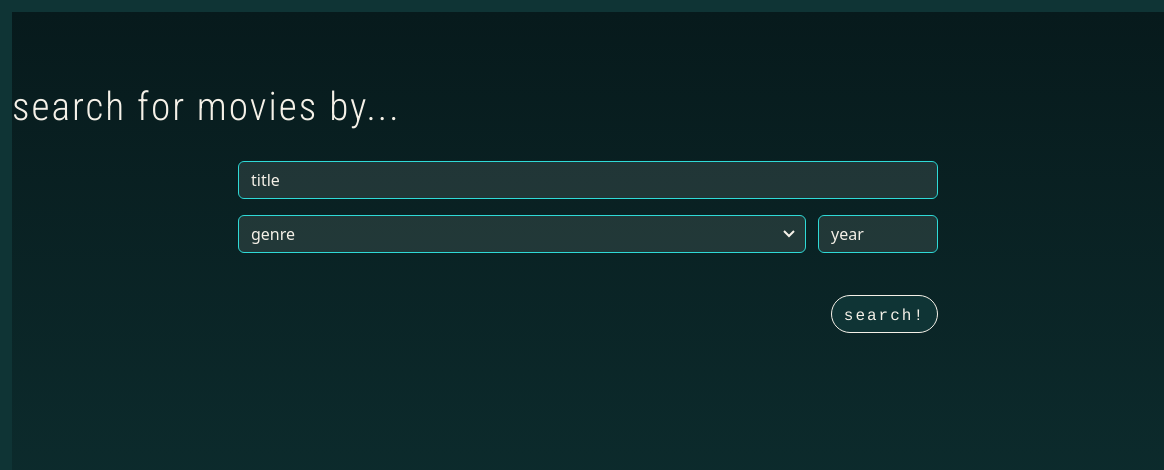
MovieSearchPage › puts submitted filters in the URL
Type "Arrival" into the field with placeholder "title" at (588, 180), box [238, 161, 938, 199]
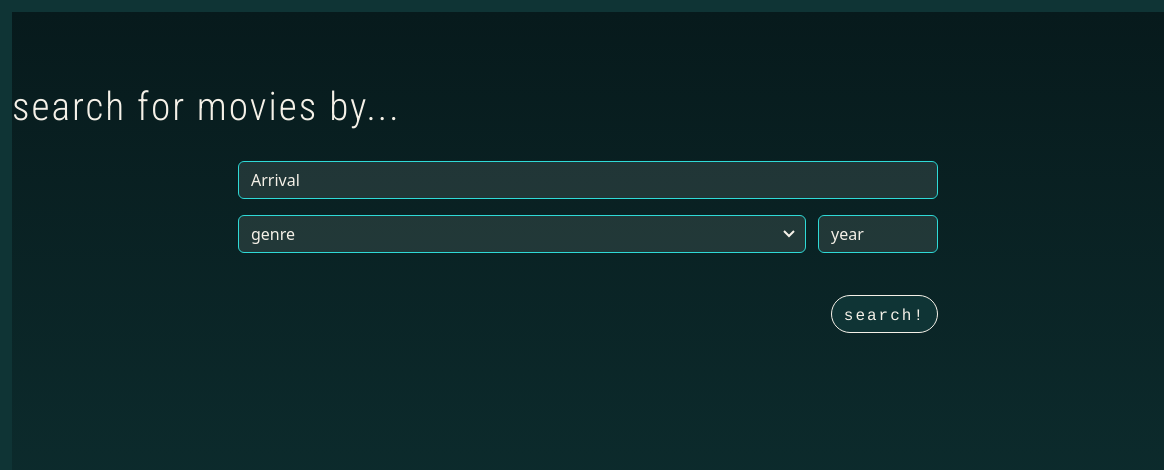
Select "Drama" in the dropdown at (522, 234), box [238, 215, 806, 253]
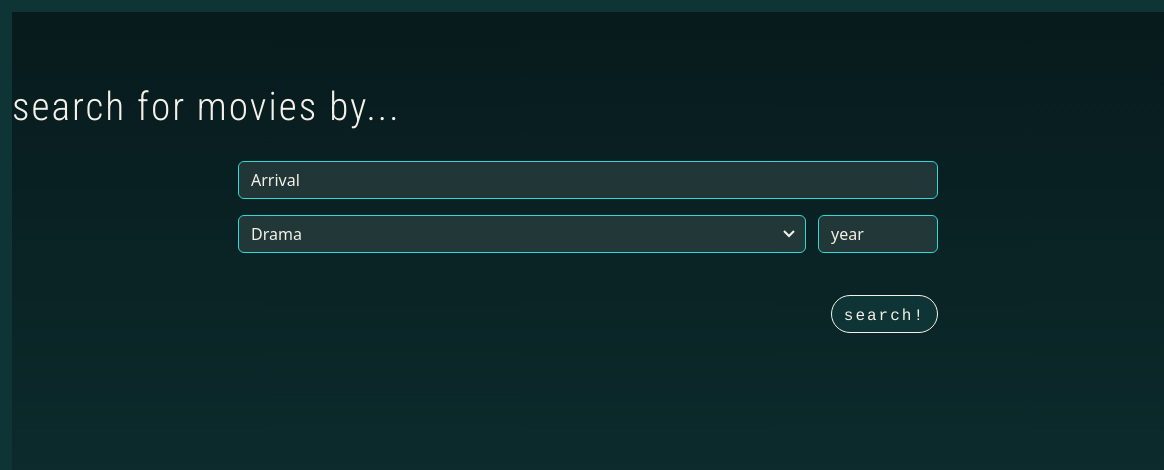
Type "2016" into the number field with placeholder "year" at (878, 234), box [818, 215, 938, 253]
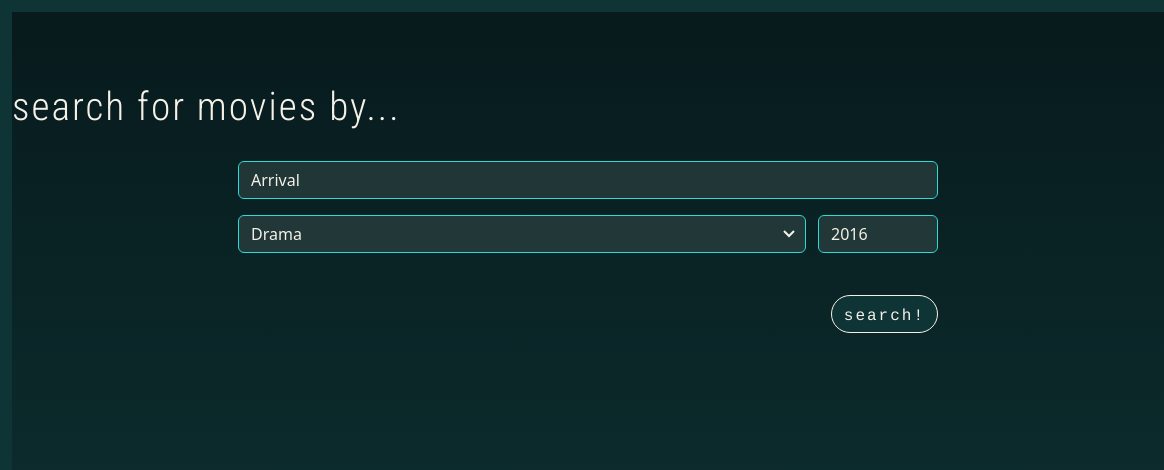
Click the button "search!" at (884, 314), box [831, 295, 938, 333]
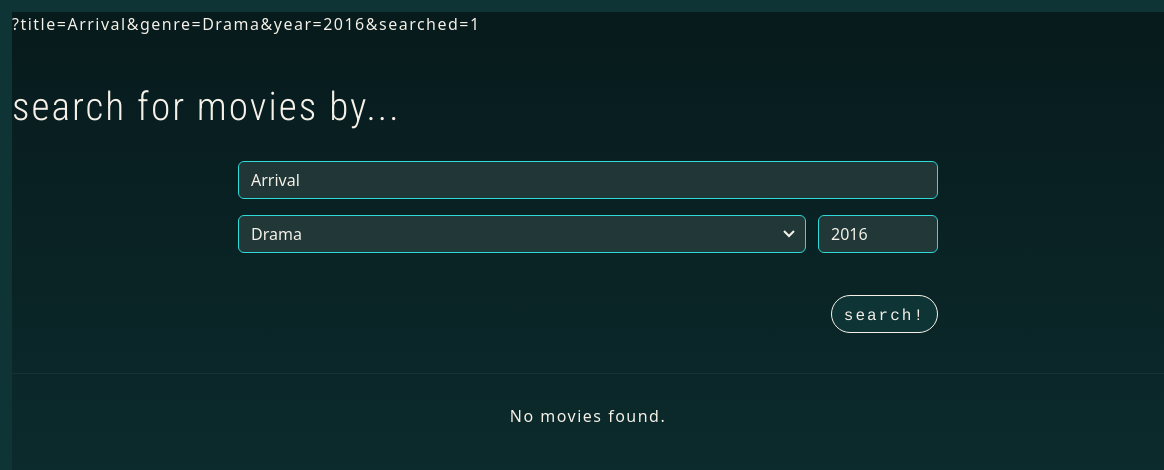
Check: the text with test id "current-search" reads "?title=Arrival&genre=Drama&year=2016&searched=1", box [12, 13, 481, 35]
